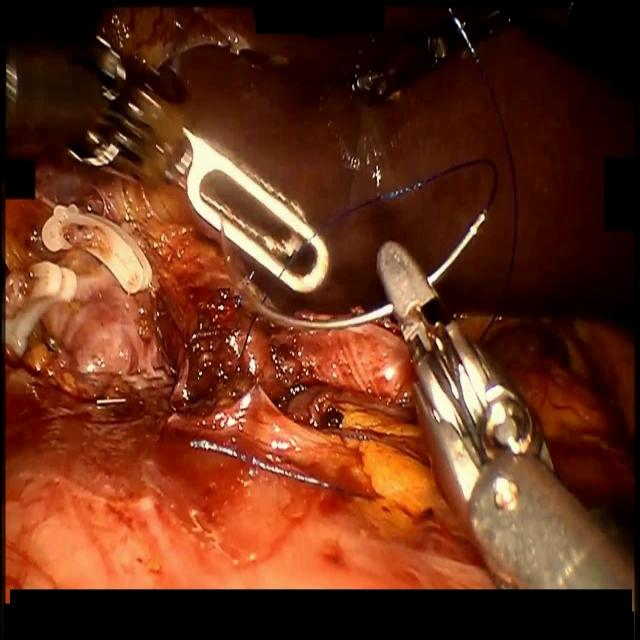surgical-area: (4, 3, 640, 590)
surgical-tool: (2, 0, 329, 296), (374, 237, 638, 590)
